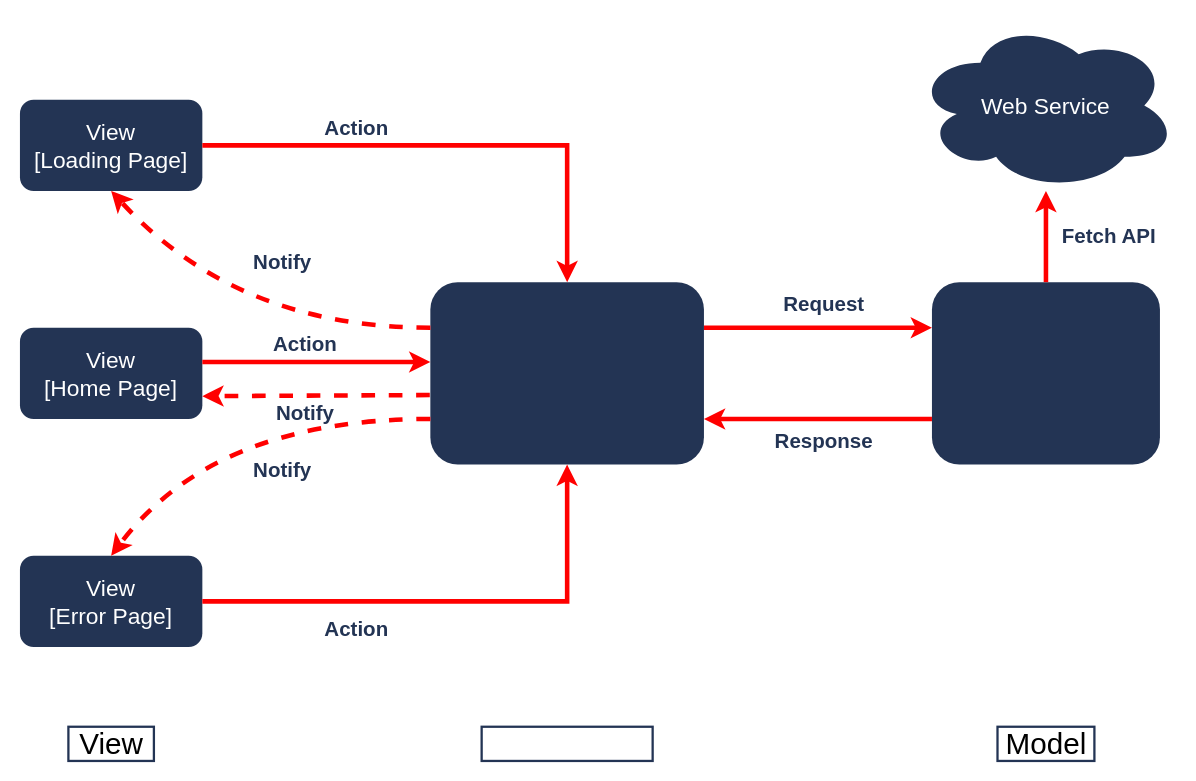
Image size: 1196x781. Some labels were removed from this diagram. The shapes that lost their labels are listed below. From the top down, each one's centre as x and y in pixels, then its label:
At [566,373]: "ViewModel [CurrencyViewModel] (ChangeNotifier)".
At [1045,373]: "Model [CurrencyModel] [RatesModel]".
At [566,743]: "ViewModel".
